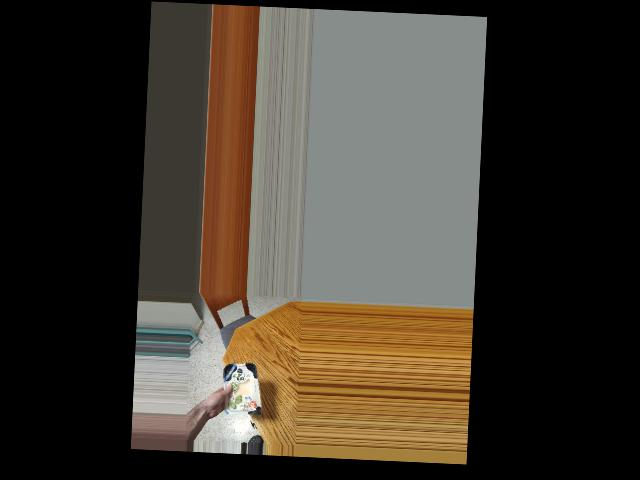cheese: (221, 363, 260, 411)
